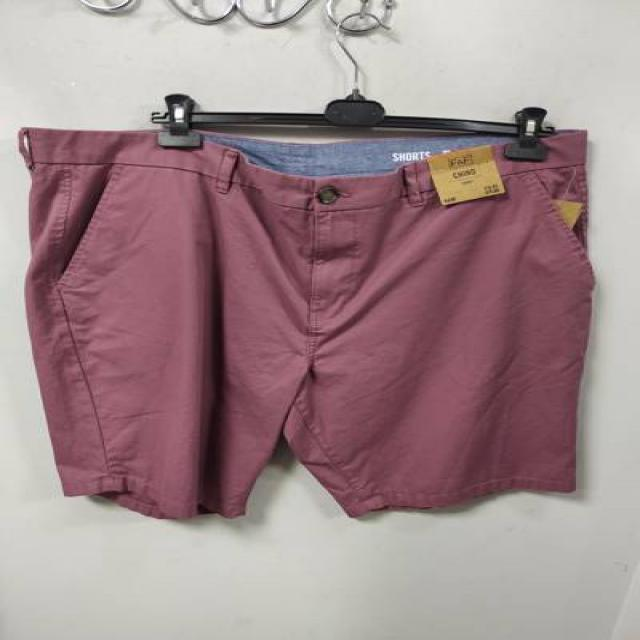Clothes -Biodegradable-: (18, 127, 595, 519)
